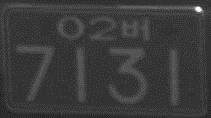0: (57, 14, 86, 41)
1: (63, 45, 100, 105), (158, 48, 193, 107)
2: (89, 14, 118, 41)
3: (107, 46, 148, 105)
7: (15, 43, 55, 102)
버: (120, 17, 149, 42)
